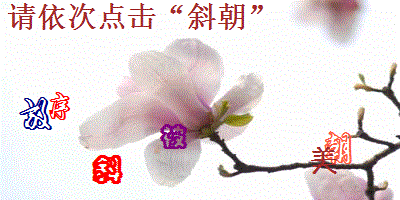text: (18, 95, 53, 132), (90, 154, 125, 186), (323, 130, 354, 165), (310, 145, 339, 175), (159, 123, 188, 151), (49, 91, 72, 122)
